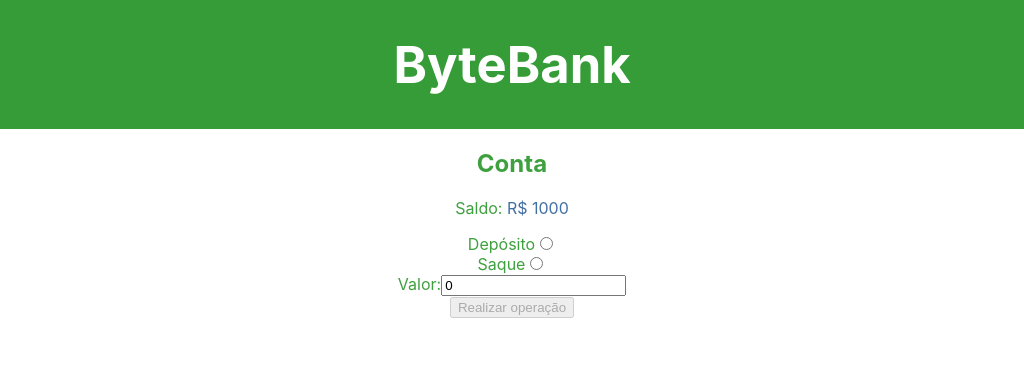
Test case: Componente principal › Quando eu realizo uma transação › um saque maior que o limite da conta
Expected: the text "R$ 1000" is shown, [507, 198, 569, 218]
Click the radio button labelled "Saque": [537, 263] box [530, 257, 543, 270]
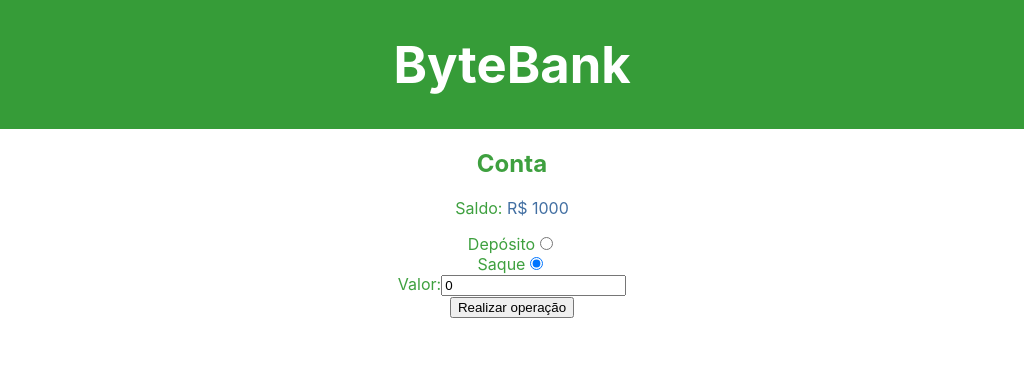
Replace the text in the field with test id "valor" with "1010": [534, 285] box [441, 275, 626, 296]
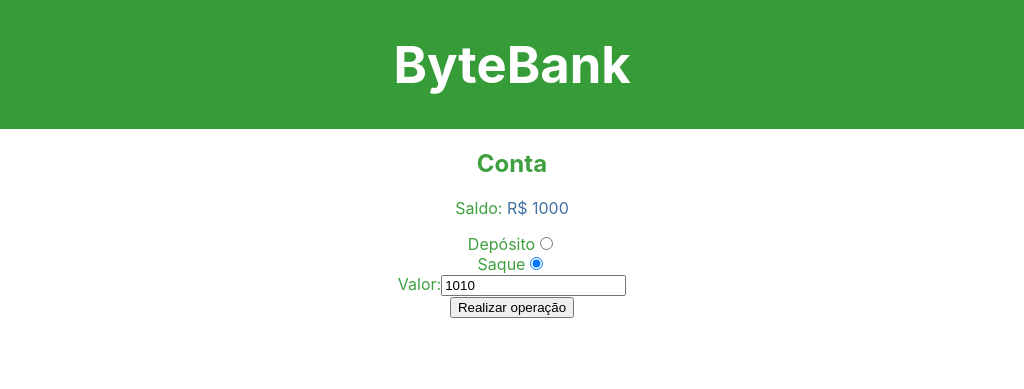
Click the button "Realizar operação": [512, 307] box [450, 297, 574, 318]
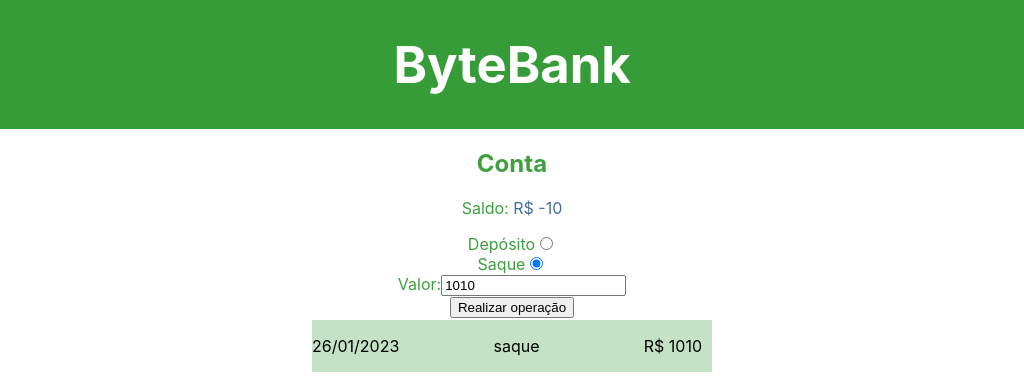
Result: the text "R$ 1000" reads "R$ -10" at [513, 198, 562, 218]
